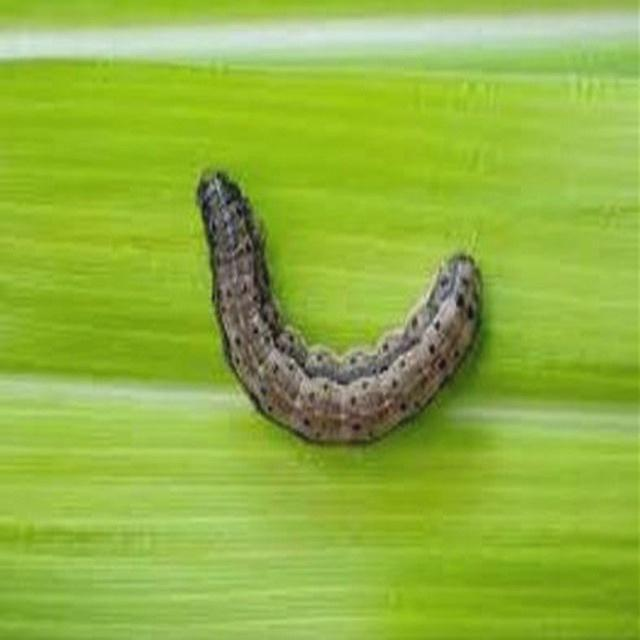gusano_cogollero: (187, 154, 488, 452)
